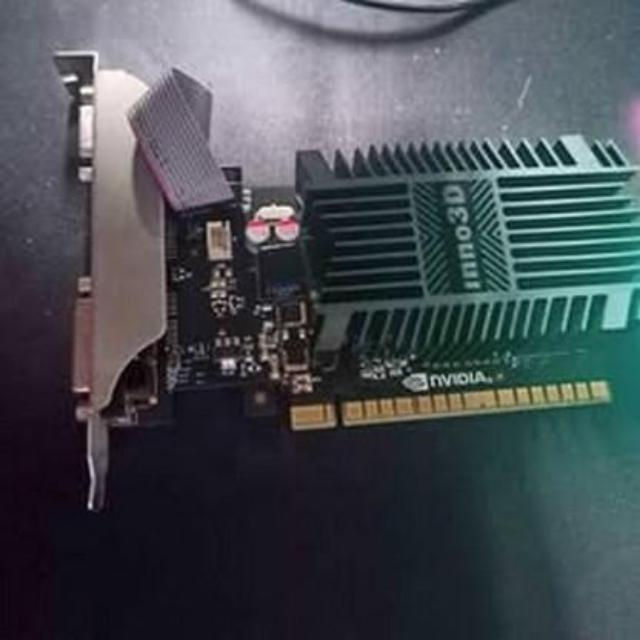GPU: (73, 104, 633, 444)
